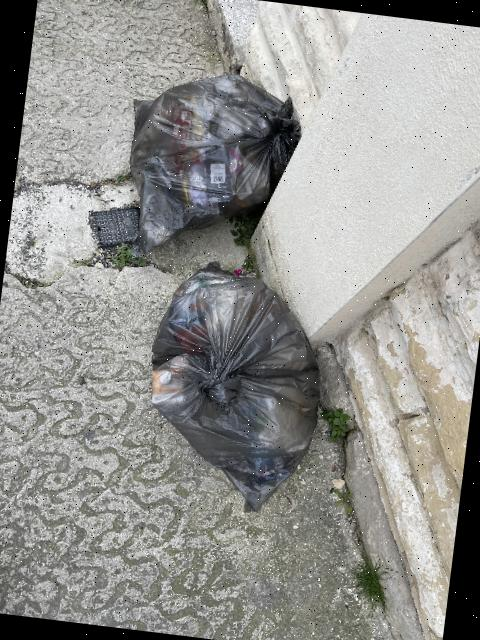Recyclable -Grey-: (152, 262, 320, 511), (129, 74, 301, 256)
